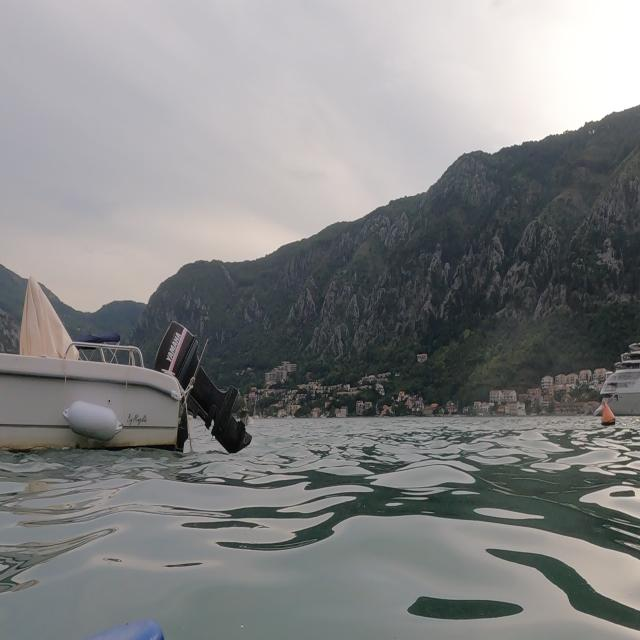boat: (2, 271, 253, 461)
buoy: (594, 401, 622, 432)
